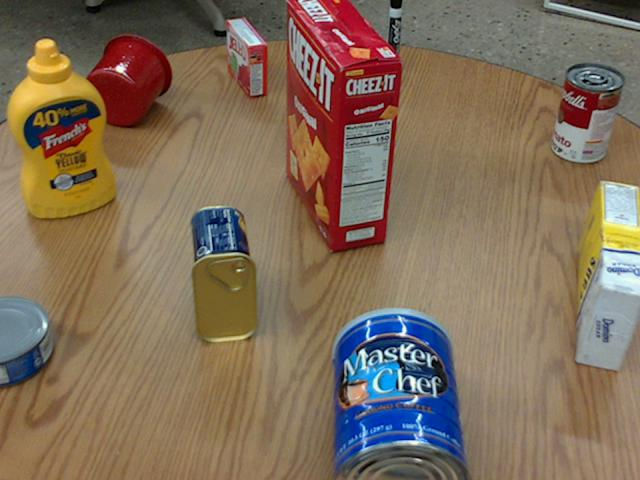cracker_box: (283, 0, 401, 249)
gelatin_box: (228, 18, 268, 96)
large_marker: (385, 0, 402, 71)
master_chef_can: (332, 307, 472, 479)
mug: (82, 34, 171, 126)
mustard_bottle: (7, 39, 114, 217)
potted_meat_can: (188, 205, 255, 342)
sugar_box: (578, 181, 639, 371)
tomato_soup_can: (550, 64, 622, 164)
tuna_fish_can: (0, 295, 52, 384)
